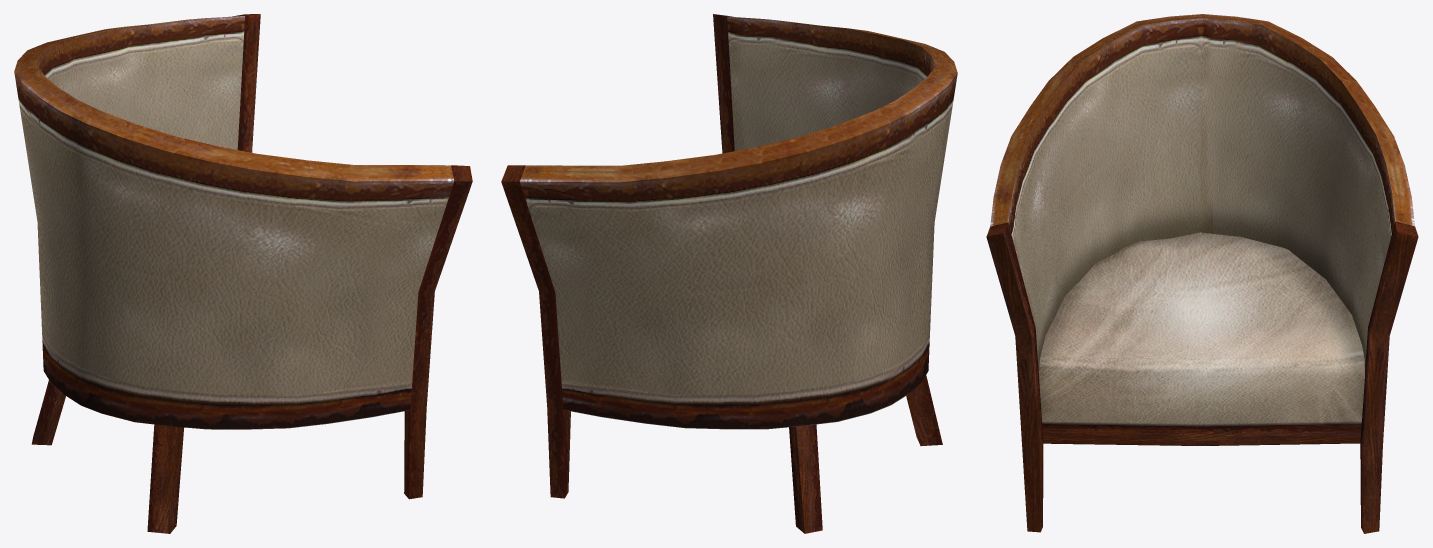
The model's file is Chair1.fbx.
The picture shows the model from 3 angles, left to right: view 1: azimuth 30°, elevation 25°; view 2: azimuth 150°, elevation 25°; view 3: azimuth 270°, elevation 25°; orthographic projection. The views are drawn at different scales.
Visible parts, largest first — view 1: Empty_Mesh; view 2: Empty_Mesh; view 3: Empty_Mesh.
Part boxes in pixels (x1=…): Empty_Mesh: x1=14, y1=14, x2=472, y2=533; Empty_Mesh: x1=501, y1=14, x2=957, y2=533; Empty_Mesh: x1=986, y1=14, x2=1418, y2=533.
Bounding box in the file's own units: 79.63 × 95.24 × 96.3.
